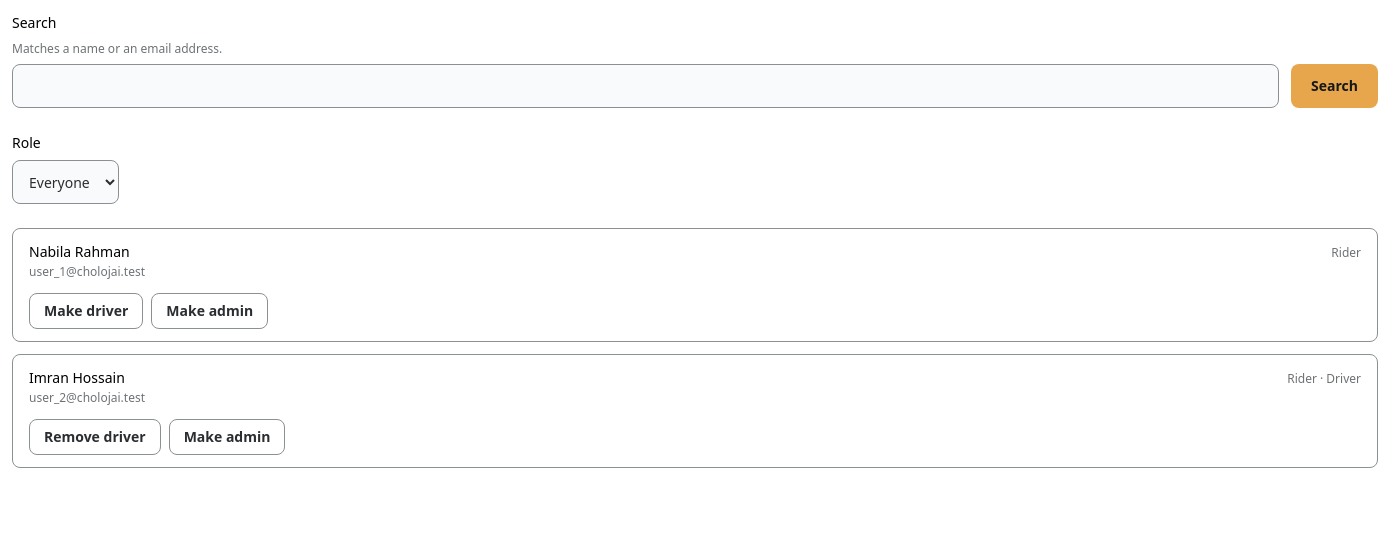
it: UserDirectory › surfaces a refusal from the server
Click the button "Remove driver".
click(95, 437)  # box 29,419 -> 161,455
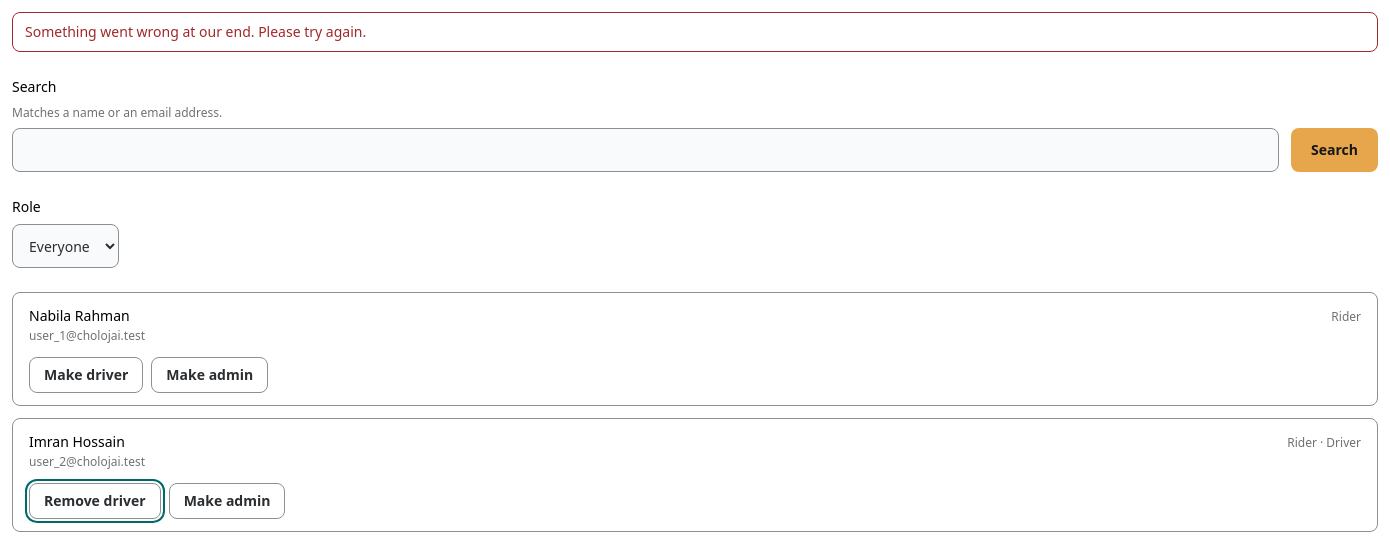
Check: the message "Something went wrong at our end. Please try again." is shown, box 12,12 -> 1378,52
